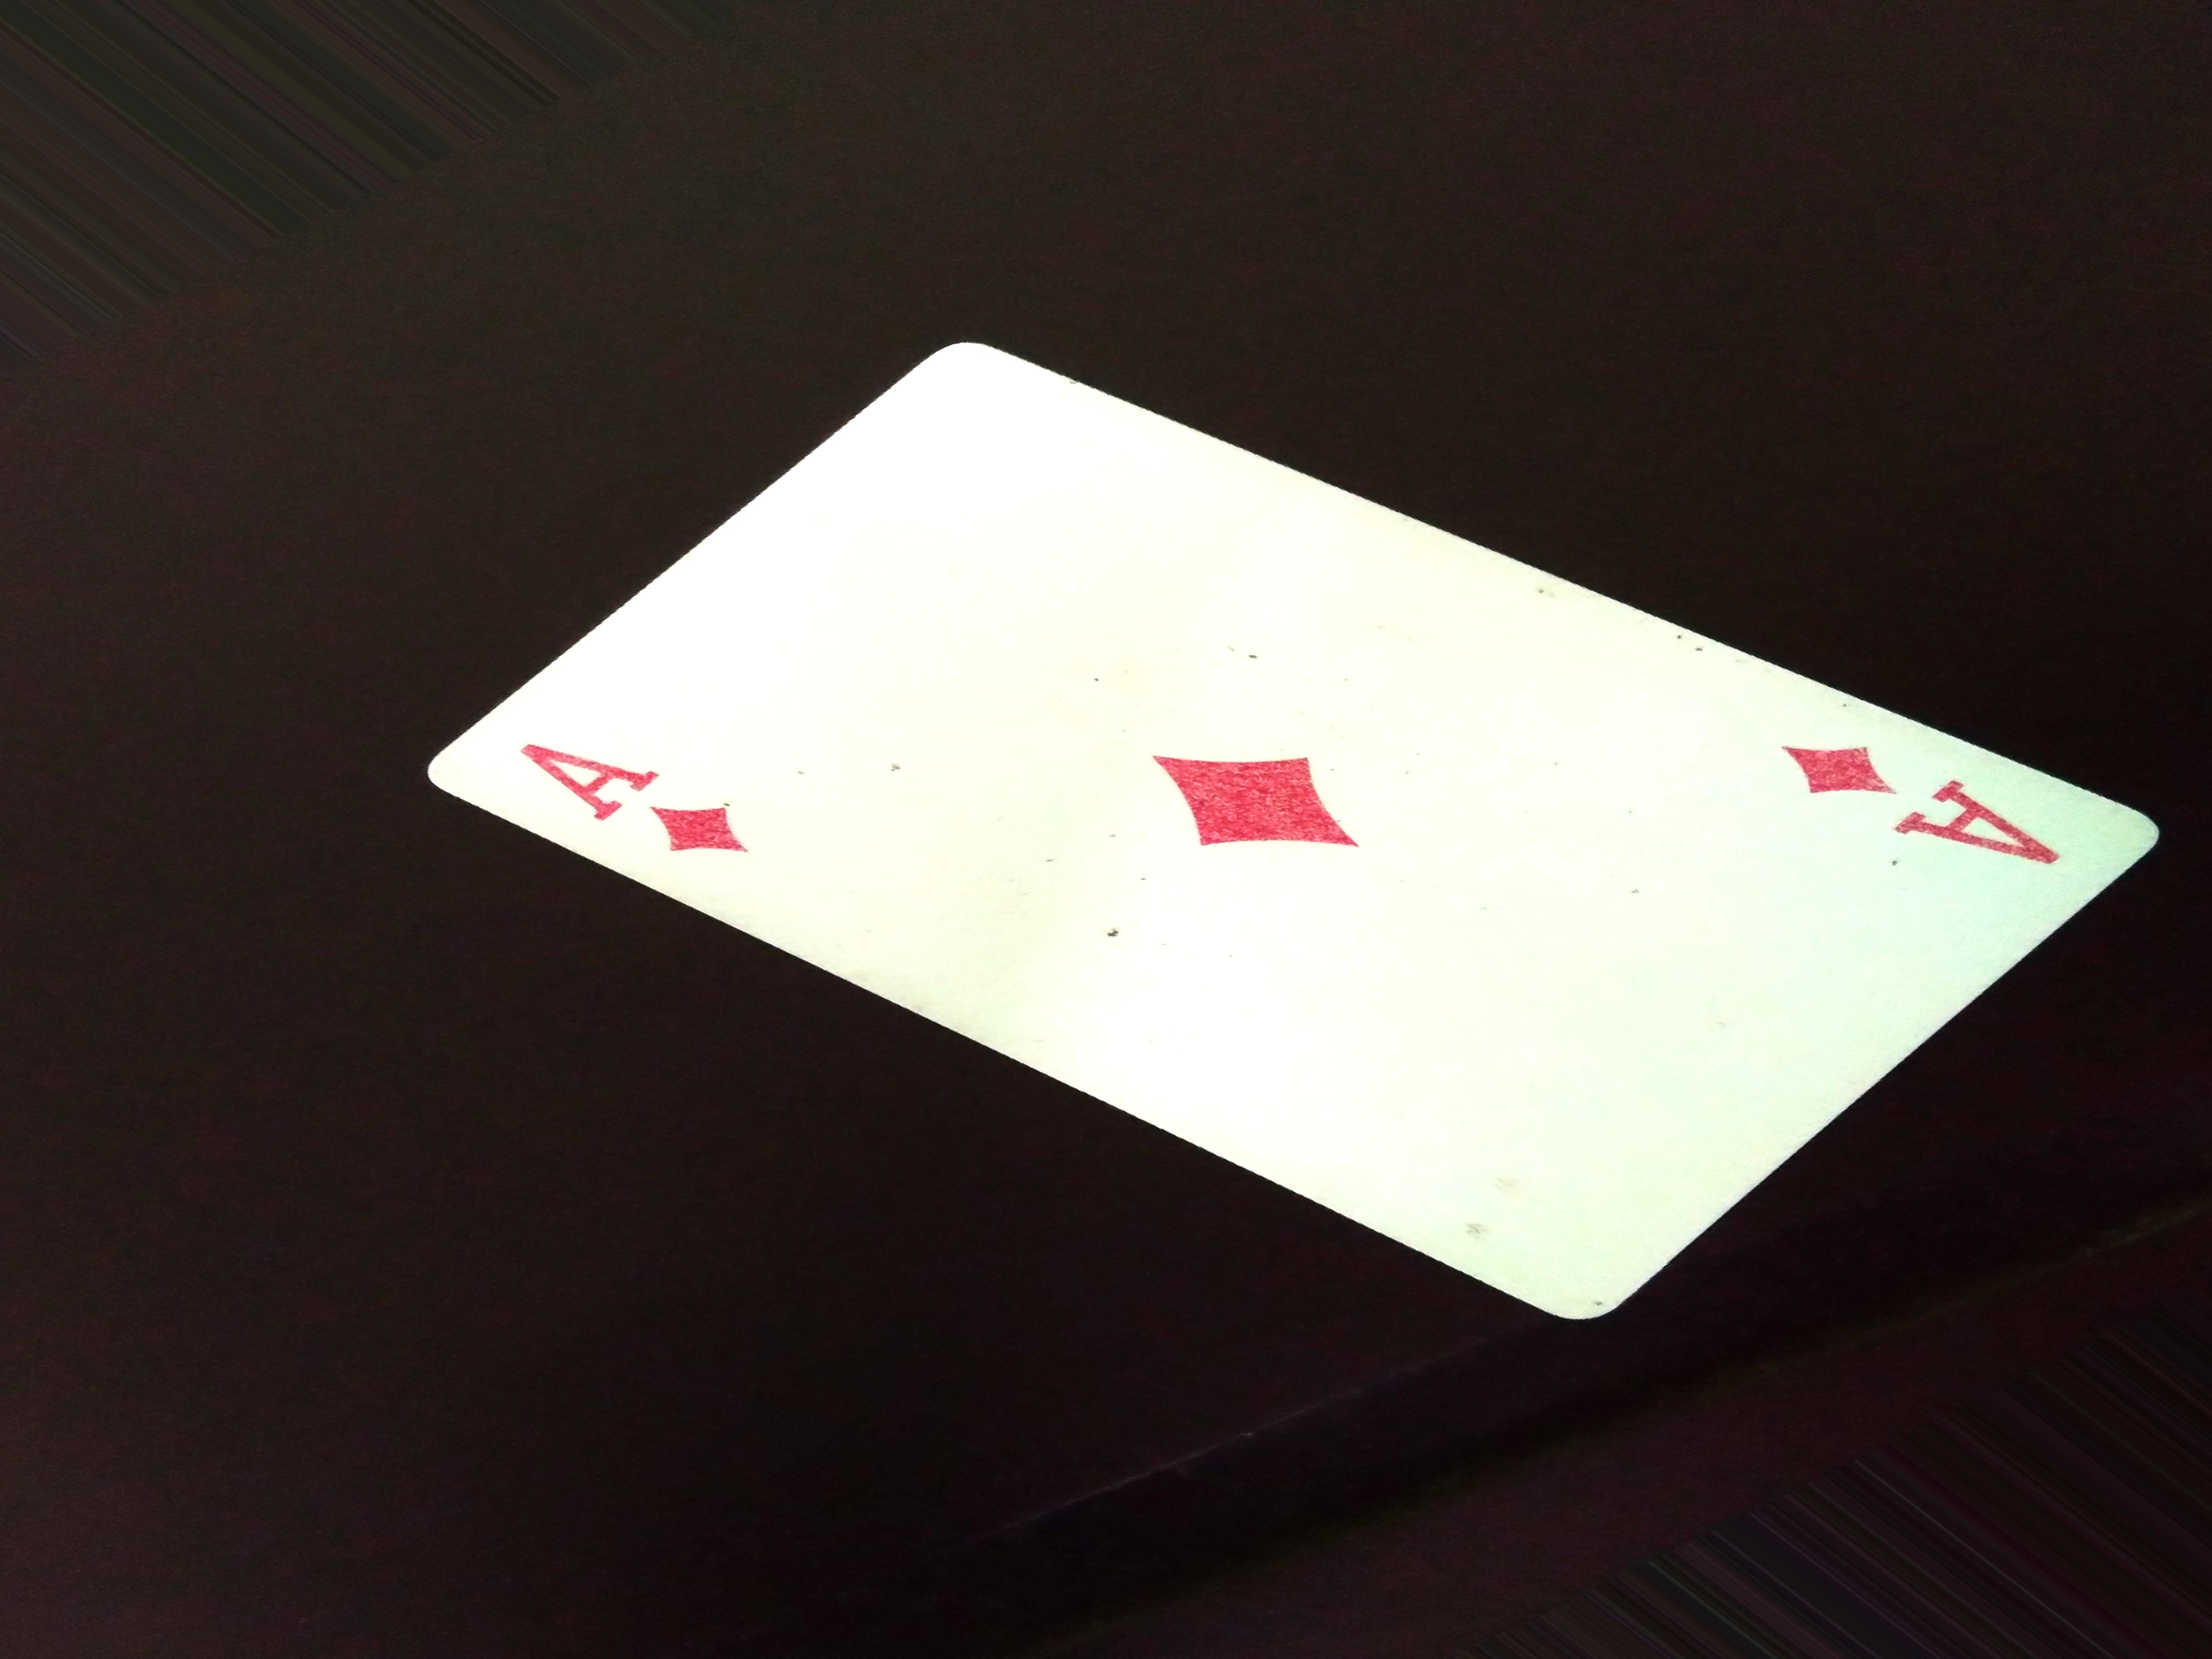AD: (1742, 721, 2076, 884)
